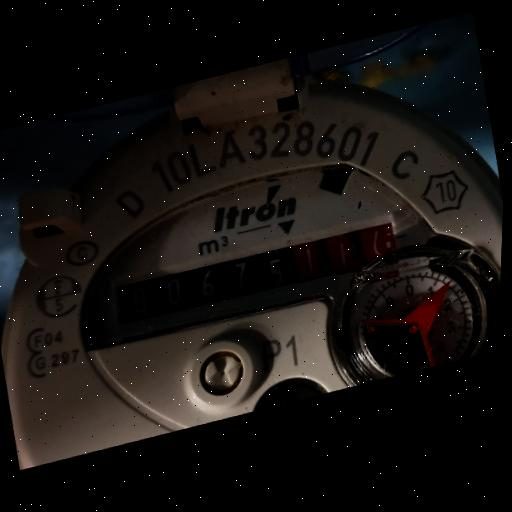0: (157, 272, 190, 315), (126, 279, 158, 322)
1: (324, 231, 360, 278), (358, 222, 397, 264), (292, 240, 327, 284)
5: (260, 246, 291, 292)
6: (192, 264, 223, 306)
7: (226, 256, 258, 299)
border_water_meter_number: (104, 202, 411, 352)
